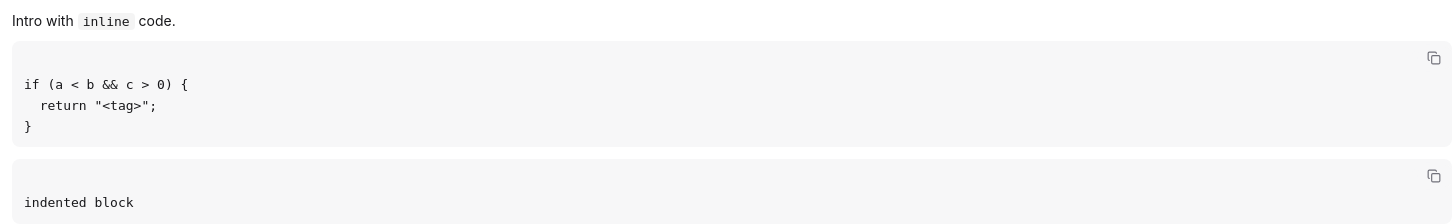
Test case: code block copy (T7) › copies the code exactly, without a trailing newline, and shows a check
What coordinates should you click on to do the following:
click the 1st button named "Copy code"
I would click on:
 (1434, 58)
Its box is [1422,47,1446,69].
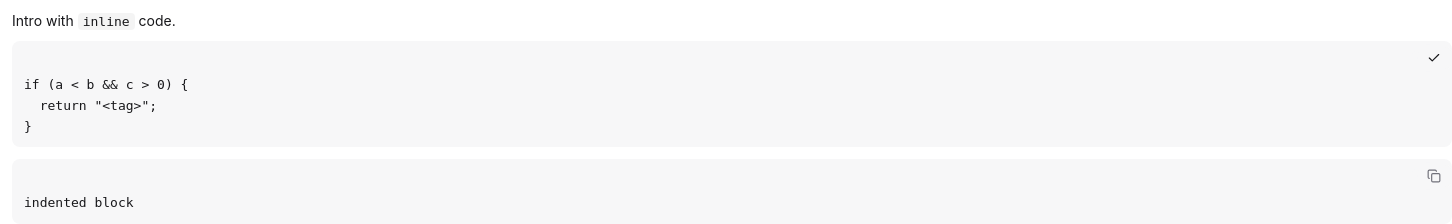
Now the button named "Copied" has attribute data-copy-state="copied", box [1422,47,1446,69]
